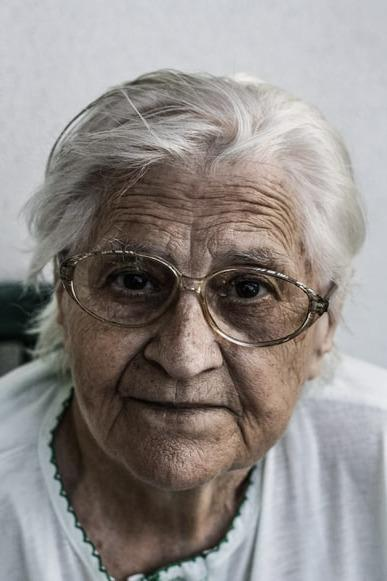Wrinkles: (118, 221, 173, 236), (125, 213, 195, 224), (199, 212, 284, 221), (194, 222, 270, 230), (268, 220, 288, 245), (227, 200, 279, 209), (125, 196, 175, 199), (235, 230, 266, 232), (188, 198, 222, 198)
